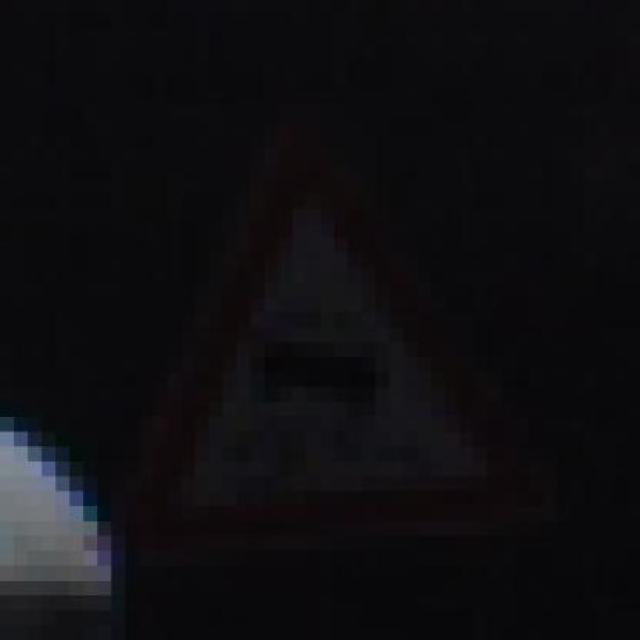Slippery Road Ahead: (97, 120, 543, 566)
